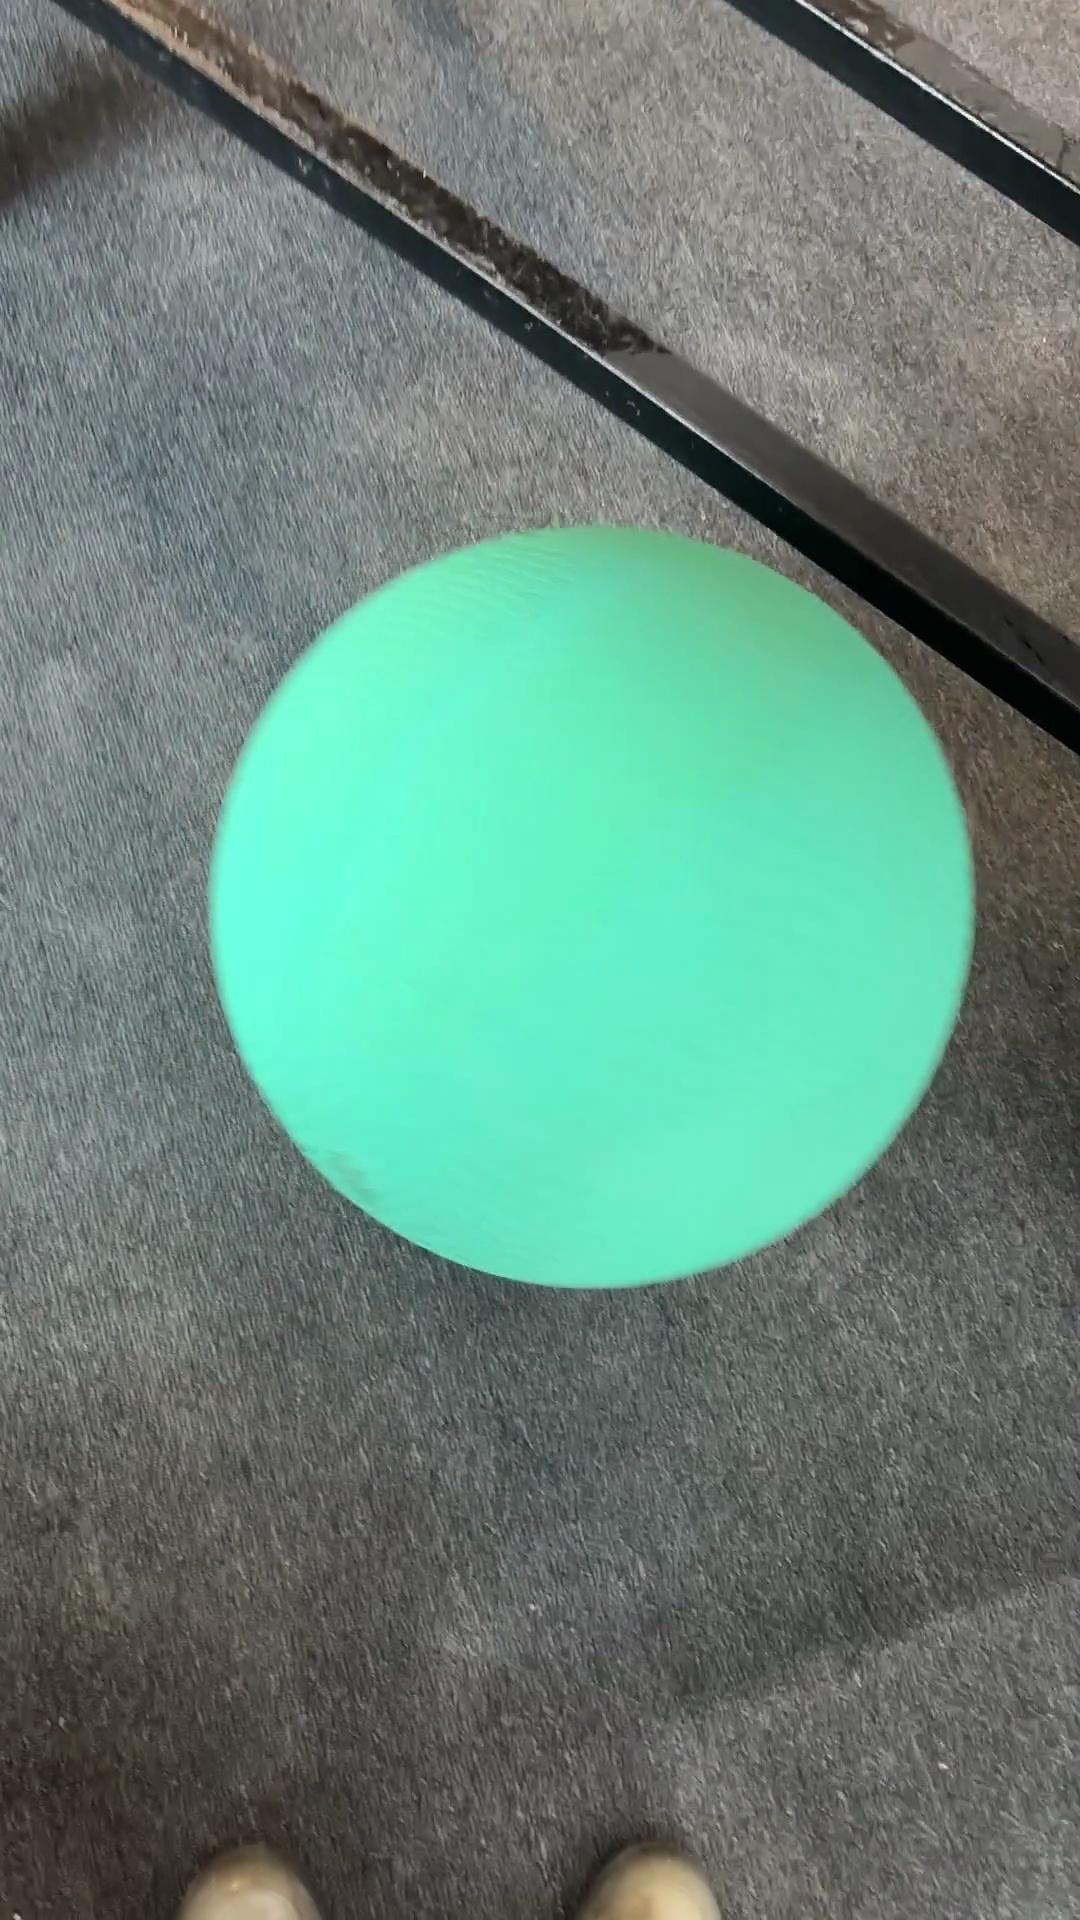ALGAE: (204, 521, 979, 1292)
